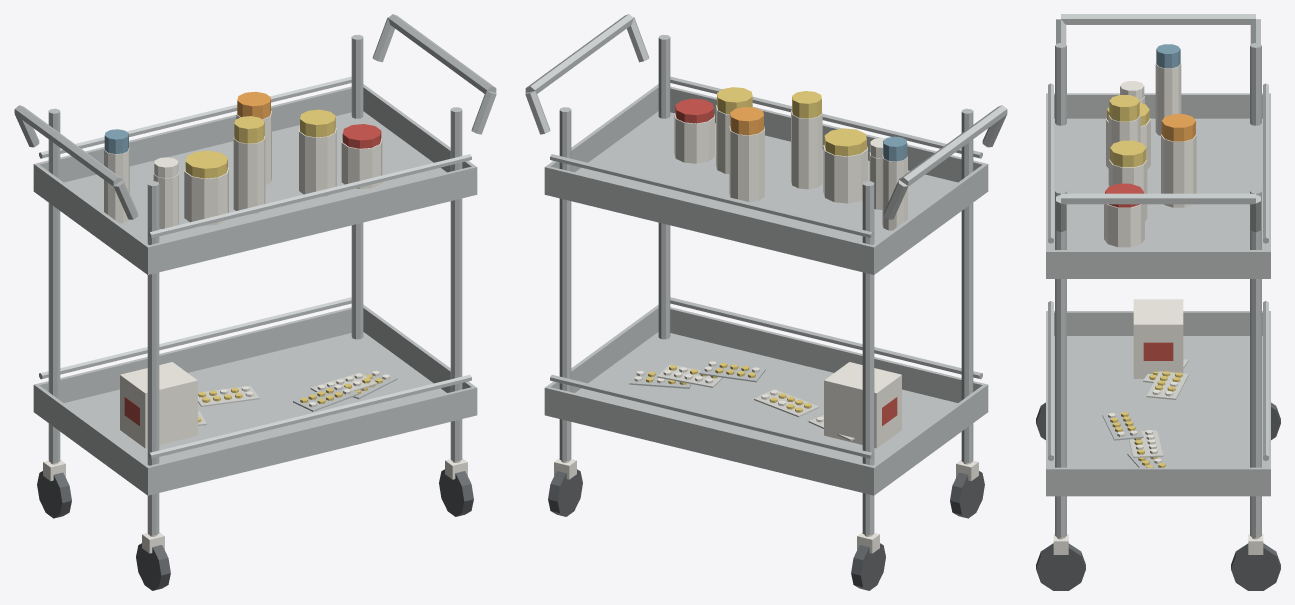
The model's file is med_cart.fbx.
3 renders of one model, left to right at view 1: azimuth 30°, elevation 25°; view 2: azimuth 150°, elevation 25°; view 3: azimuth 270°, elevation 25°, orthographic.
Parts seen in each view (by area): view 1: med_cart; view 2: med_cart; view 3: med_cart.
Boxes of the visible parts, <box> form: med_cart: <box>14,14,496,590</box>; med_cart: <box>525,14,1007,590</box>; med_cart: <box>1036,14,1280,590</box>.
Size of the model in its own units: 87.21 by 90.96 by 49.
